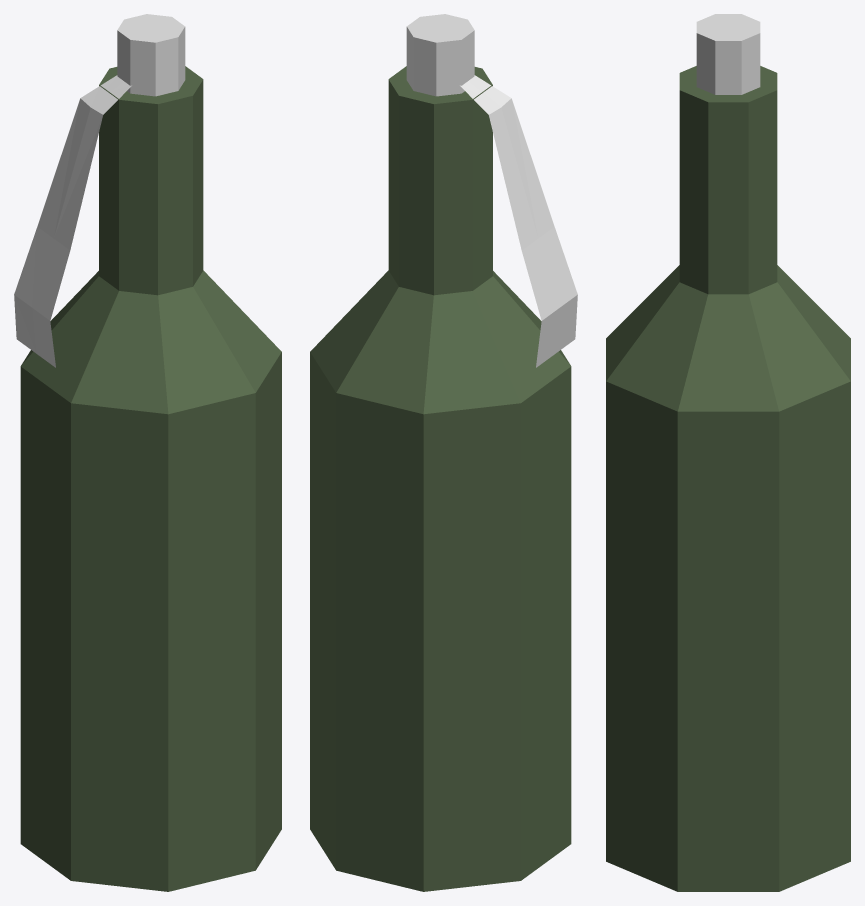
File: ukcod molotov.dae
3 views of the same model, side by side, from view 1: azimuth 30°, elevation 25°; view 2: azimuth 150°, elevation 25°; view 3: azimuth 270°, elevation 25° (orthographic).
Parts seen in each view (by area): view 1: Cube; view 2: Cube; view 3: Cube.
Boxes of the visible parts, box(x1,y1,x2,y2) form: Cube: box(14, 14, 281, 891); Cube: box(310, 14, 577, 891); Cube: box(606, 14, 850, 891).
Size of the model in its own units: 1.97 by 1.85 by 6.77.
